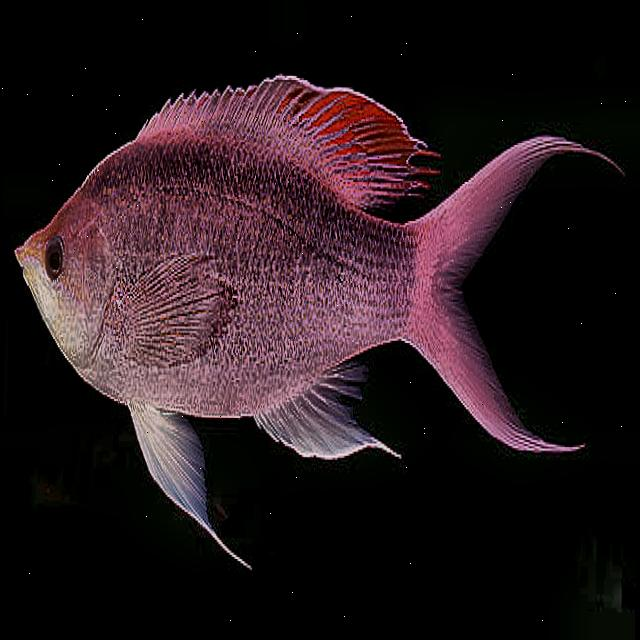fish: (8, 66, 628, 579)
